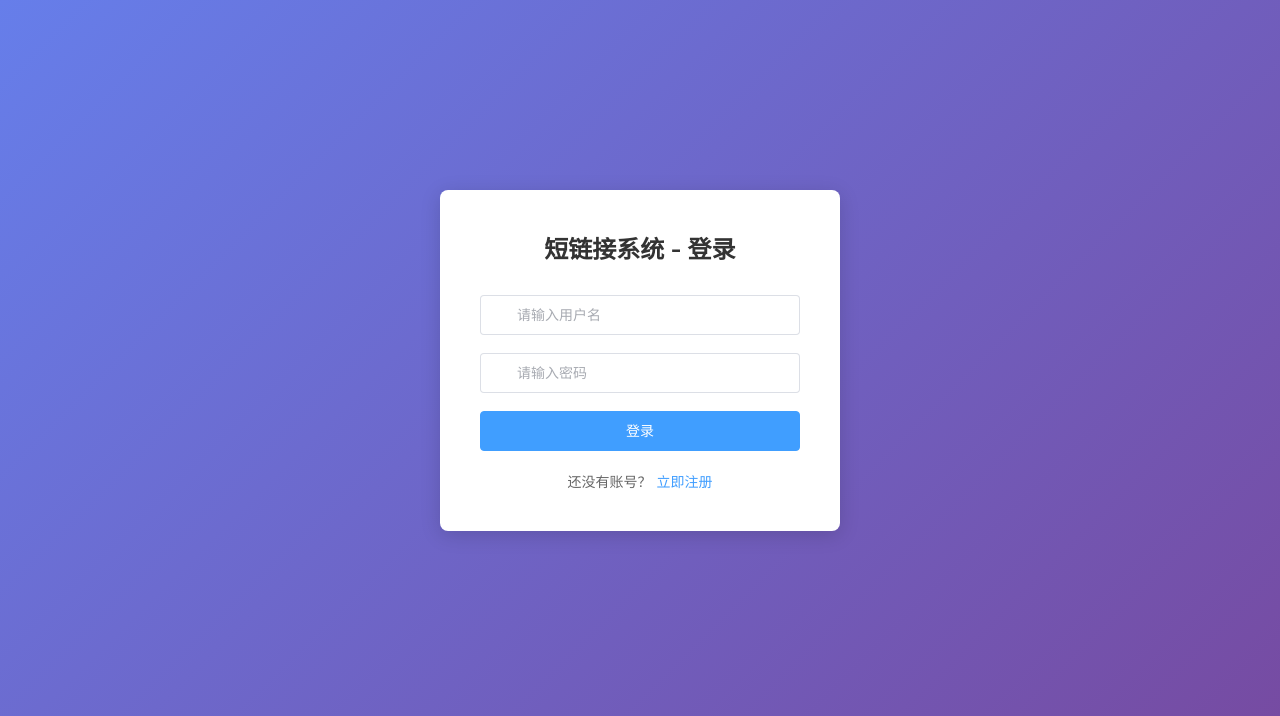
Test case: 监控统计展示测试 › 异常监控统计展示流程 › 无访问数据应显示零值
Type "testuser" into the field with placeholder "请输入用户名".
click(651, 315); type("testuser")  # box [517,296,785,334]
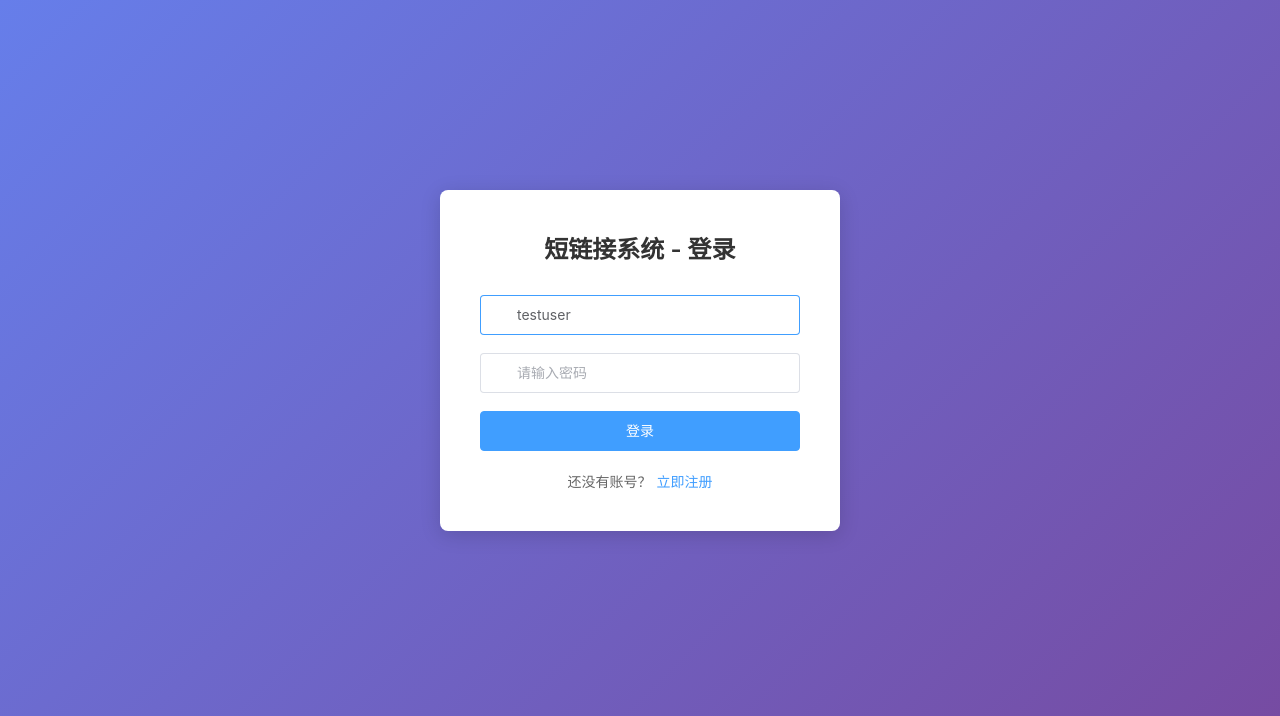
Type "test123456" into the password field with placeholder "请输入密码".
click(651, 373); type("test123456")  # box [517,354,785,392]
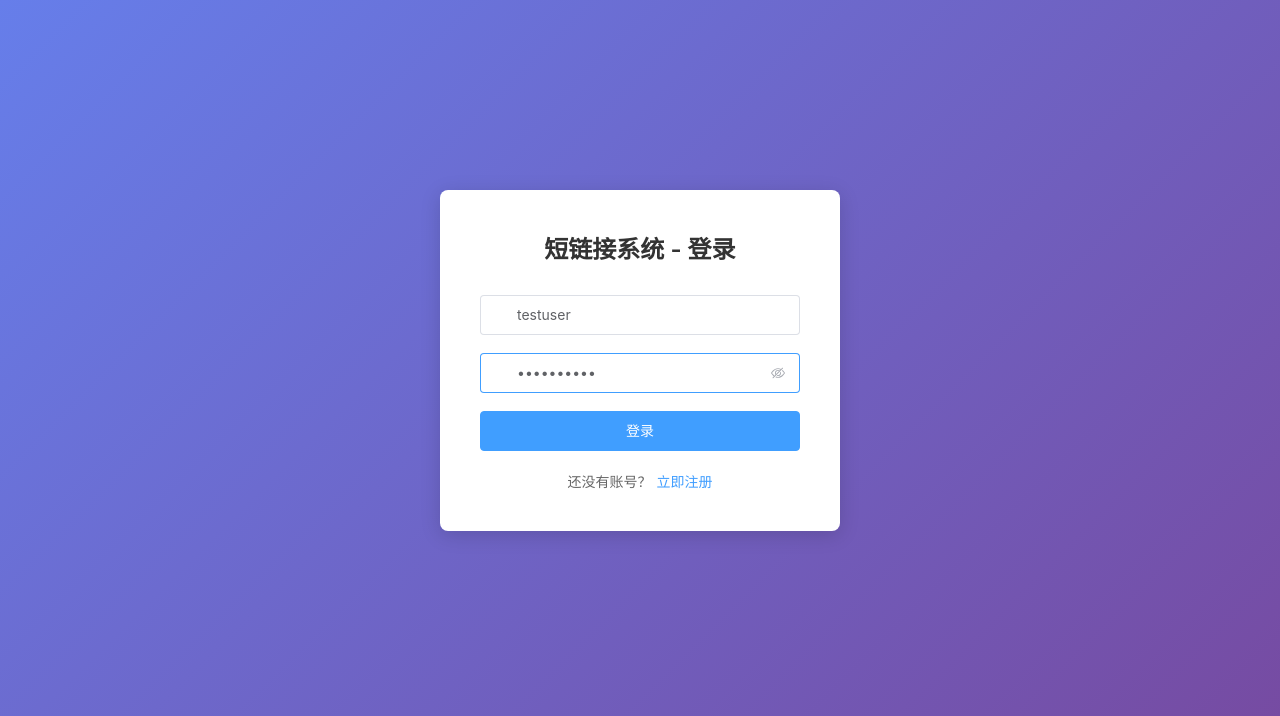
Click the button "登录".
click(640, 431)  # box [480,411,800,451]
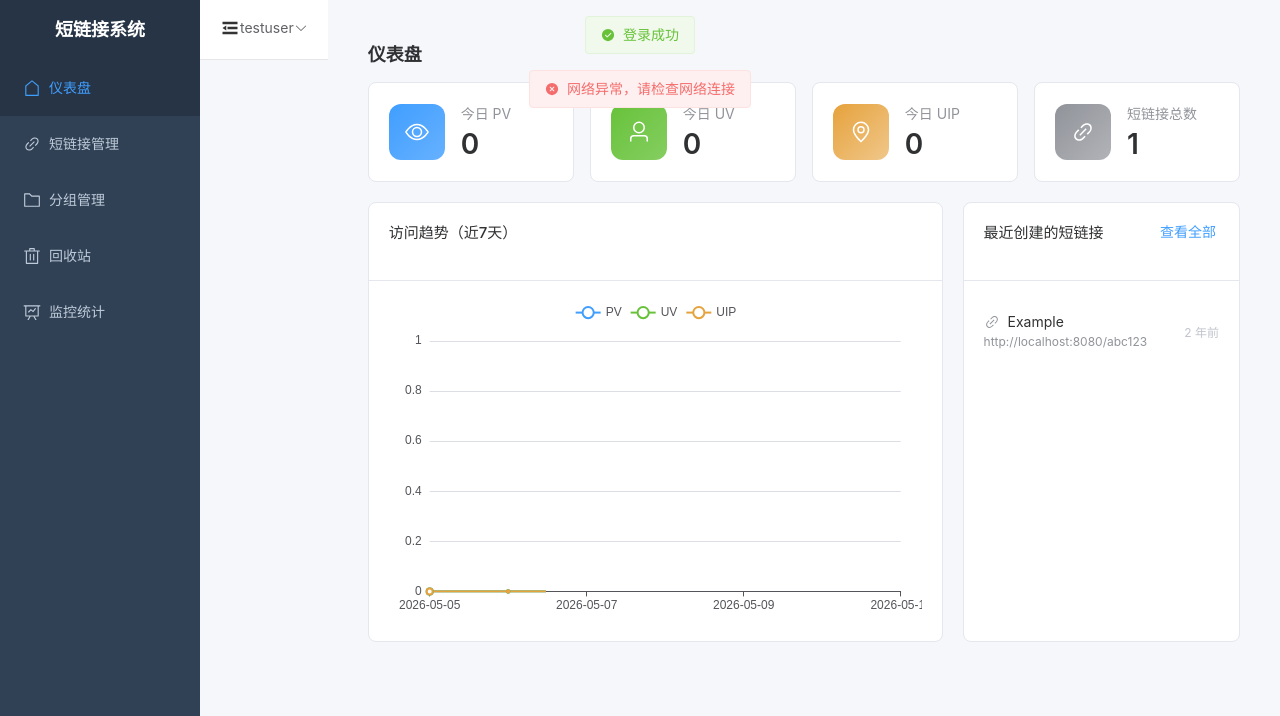
Open "/stats"
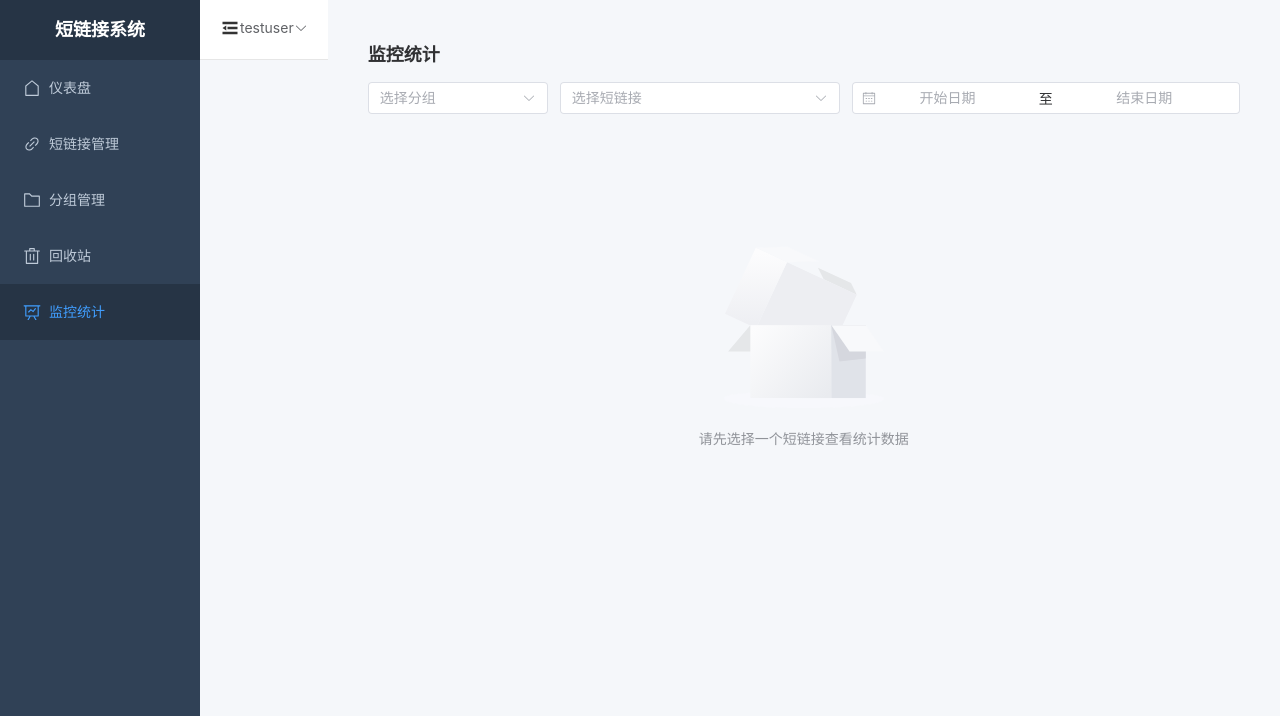
Click the element showing "选择短链接".
click(700, 98)  # box [560,82,840,114]
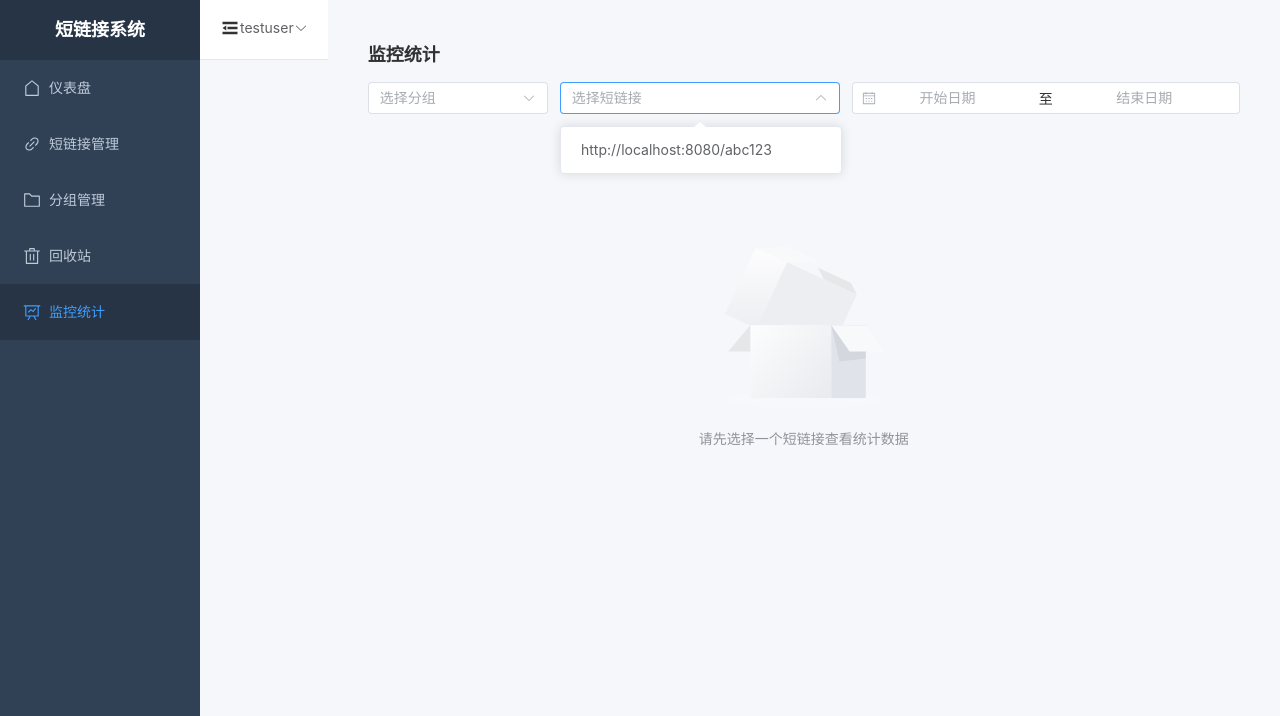
Click the text "abc123".
click(677, 150)  # box [581,141,772,158]
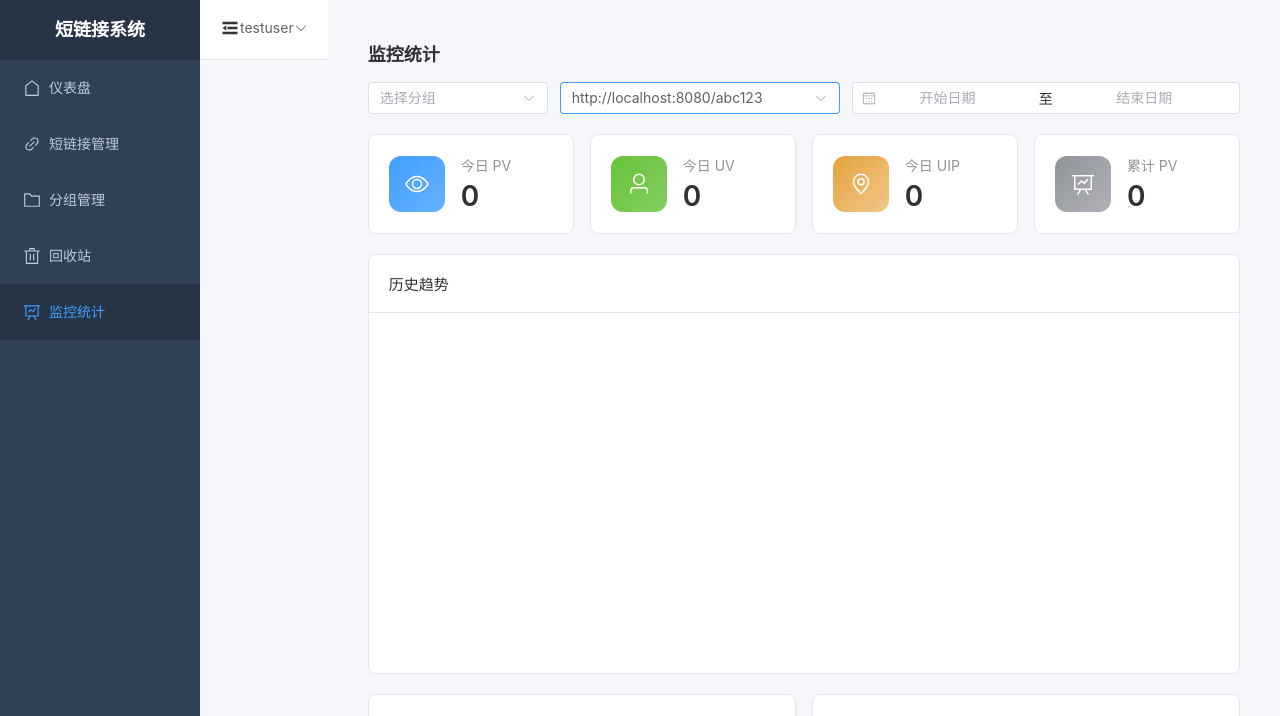
Now the text with class "stat-value" below "今日 PV" reads "0", box [461,179,479,213]
